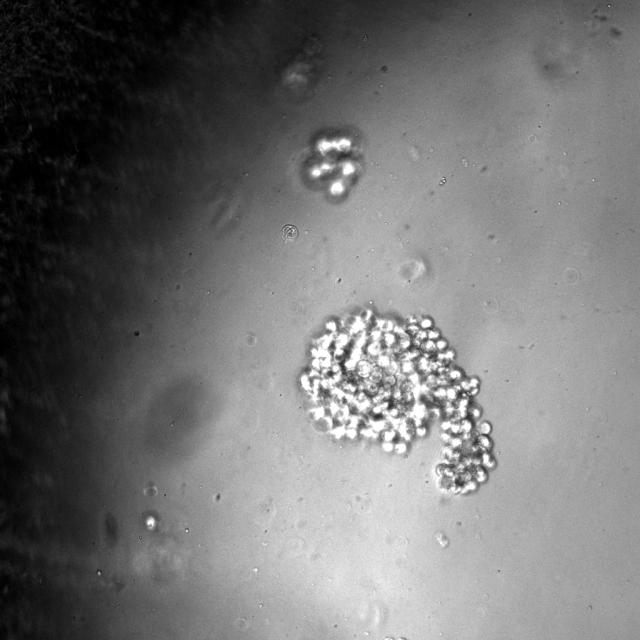organoid: (300, 309, 496, 494), (301, 129, 362, 199)
